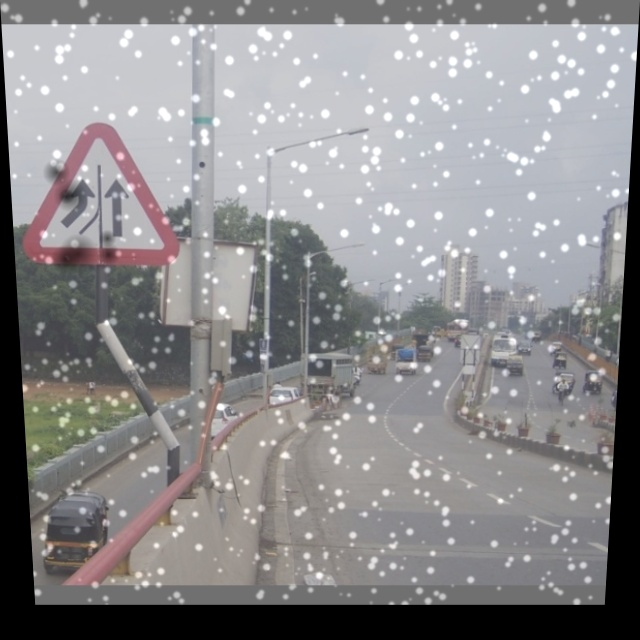Merge_Traffic_Ahead: (33, 111, 160, 274)
